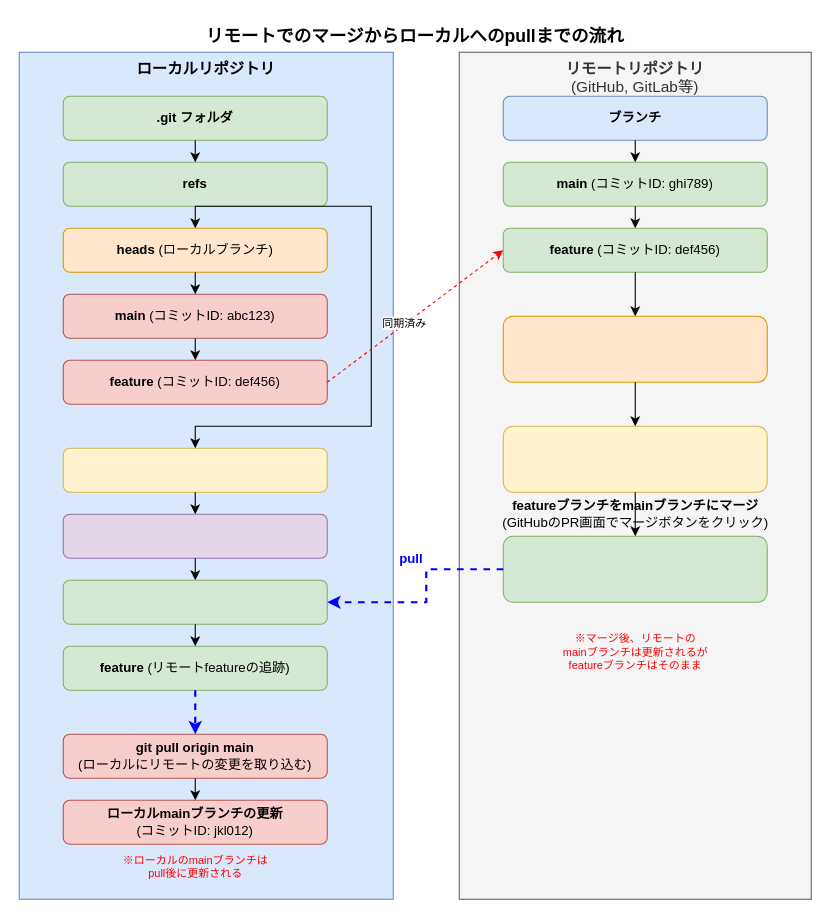
The diagram is 831 pixels wide and 919 high, and some of its shapes have lost their labels. The box of each missing label's shape, as (x1, y1, x2, y2) in pixels:
main (マージ後: コミットID: jkl012) featureの変更を含む: (502, 535, 767, 602)
main (リモートmainの追跡): (62, 579, 327, 624)
origin (デフォルトリモート): (62, 513, 327, 558)
remotes (リモート追跡ブランチ): (62, 447, 327, 492)
プルリクエスト feature → main: (502, 315, 767, 382)
レビュー完了 マージ承認: (502, 425, 767, 492)
